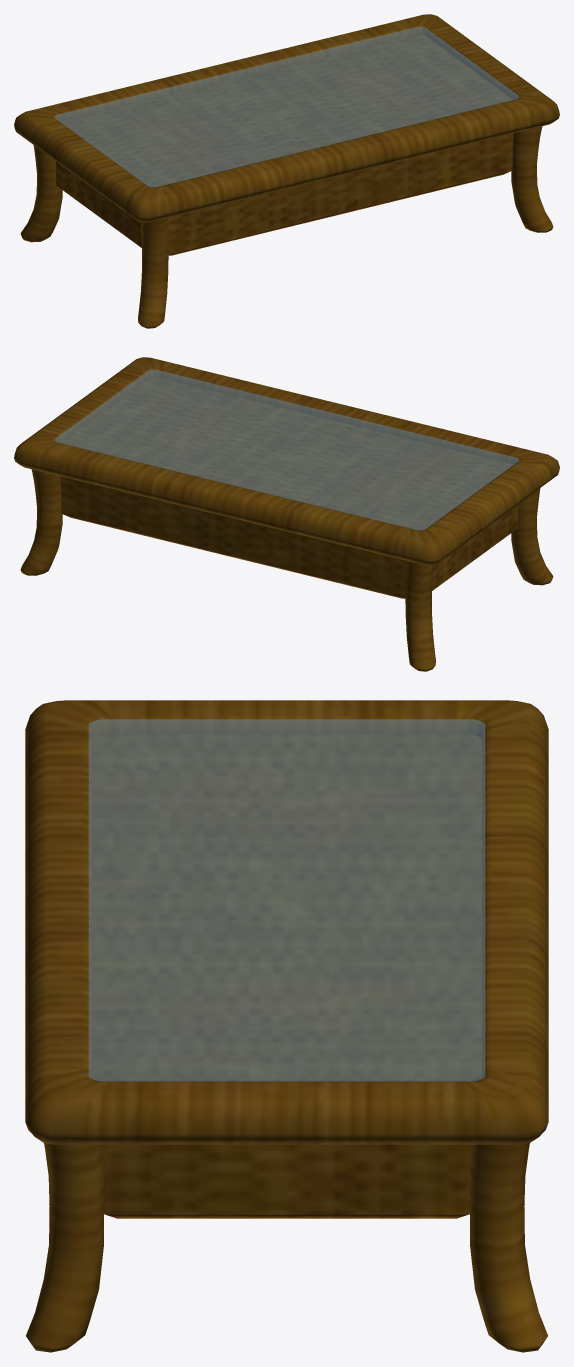
The picture shows the model from 3 angles, top to bottom: view 1: azimuth 30°, elevation 25°; view 2: azimuth 150°, elevation 25°; view 3: azimuth 270°, elevation 25°; orthographic projection. The views are drawn at different scales.
Bounding box in the file's own units: 16.25 × 4.63 × 8.64.
Materials: 2 (1 with a texture image).
